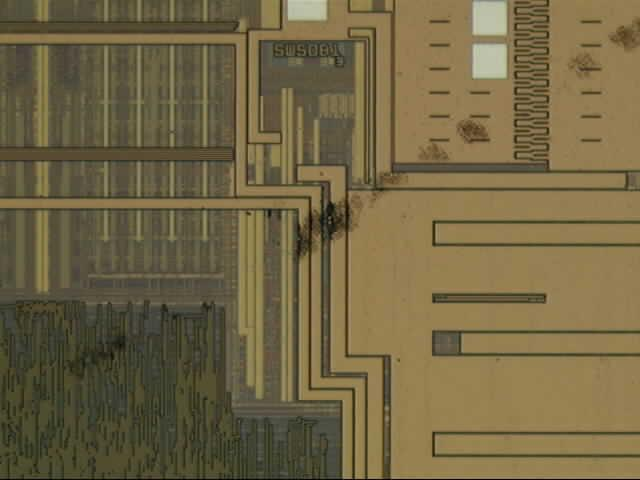SCRATCH: (17, 18, 640, 414)
